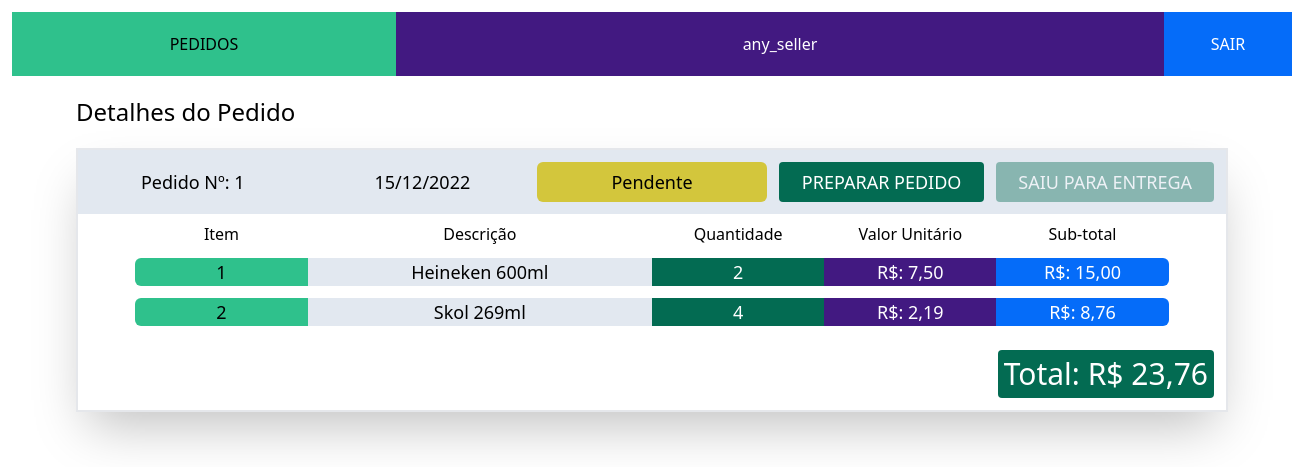
Test: Testing screen SellerDetailesOrder › Changing order status to "Preparing" and then to "In transit"
The width and height of the screenshot is (1304, 467).
Expected: the text "Pendente" is shown, [537,162,767,202]
Expected: the text with test id "seller_order_details__element-order-details-label-delivery-status" reads "Pendente", [611,170,693,194]
What coordinates should you click on to do the following:
click the button with test id "seller_order_details__button-preparing-check"
I would click on:
 (882, 182)
Its box is [779,162,984,202].
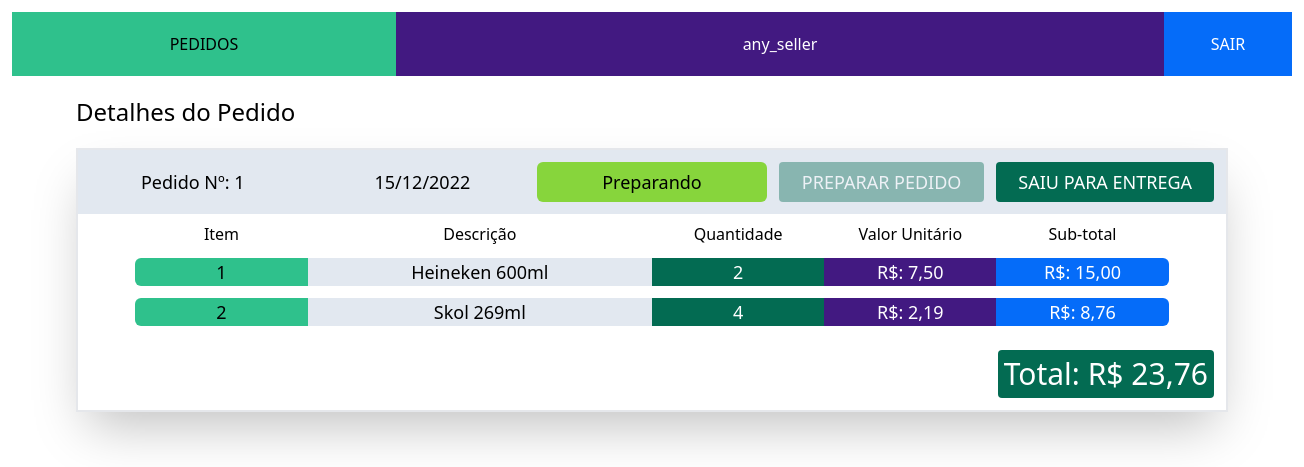
Now the text with test id "seller_order_details__element-order-details-label-delivery-status" reads "Preparando", box [602,170,702,194]
Now the button with test id "seller_order_details__button-preparing-check" is disabled, box [779,162,984,202]
Now the button with test id "seller_order_details__button-dispatch-check" is enabled
What coordinates should you click on to do the following:
click the button with test id "seller_order_details__button-dispatch-check"
I would click on:
 (1105, 182)
Its box is [996,162,1214,202].
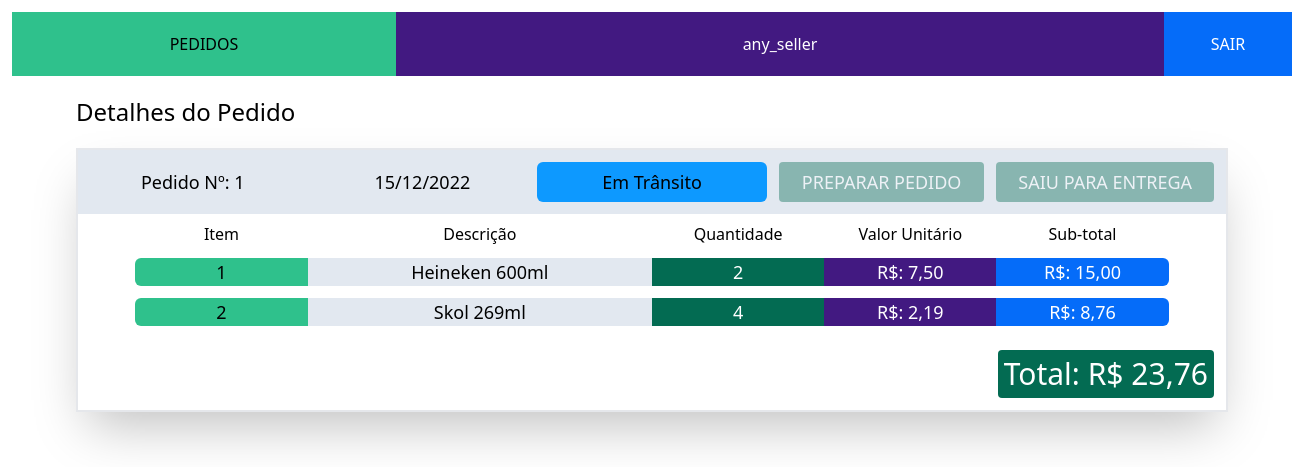
Now the text with test id "seller_order_details__element-order-details-label-delivery-status" reads "Em Trânsito", box [602,170,702,194]
